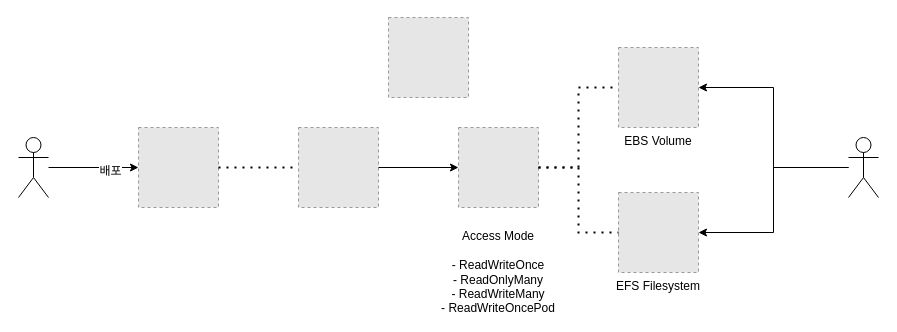
Some shapes in this 897 by 332 pixel diagram are drawn without their labels. Grey dashed boxes stand in for pictures. Here are the shapes that lost their labels. From the top down, the centre of each, then its label:
At [33,167]: "개발자".
At [863,167]: "운영자".
